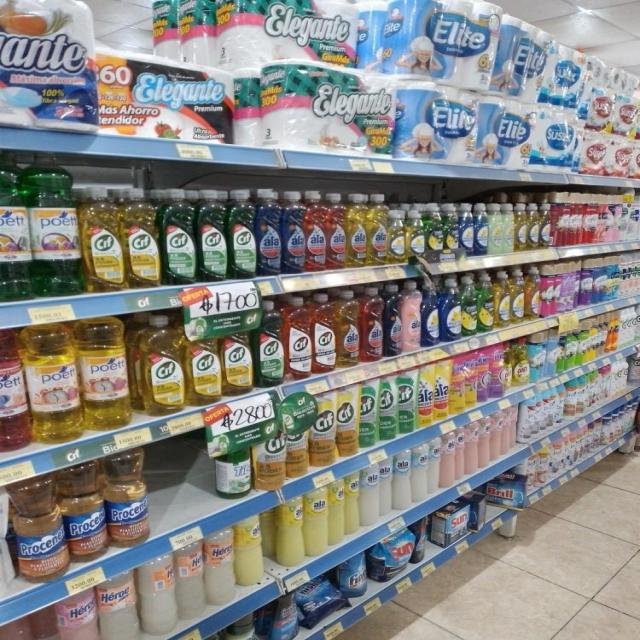ala_conc_amarillo: (336, 290, 359, 368), (367, 193, 387, 266), (347, 192, 366, 268)
ala_conc_azul: (257, 190, 281, 276), (282, 190, 304, 275), (384, 283, 402, 357)
ala_conc_rojo: (305, 191, 326, 272), (360, 286, 382, 362), (326, 192, 346, 270)
ala_crem_amarillo: (236, 514, 264, 587), (276, 497, 304, 567), (304, 487, 328, 557), (328, 478, 344, 547), (345, 472, 360, 536)
ala_crem_blanco: (361, 463, 378, 528), (394, 451, 412, 511), (412, 444, 428, 504), (379, 456, 392, 516), (429, 436, 440, 495)
ala_crem_rosado: (441, 429, 455, 488), (465, 421, 478, 476), (456, 426, 465, 483)
ala_sachet_amarillo: (418, 363, 433, 427), (434, 358, 449, 421)
ala_ultra_rosa: (402, 280, 421, 352)
cif_conc_bot_amarilla: (137, 312, 184, 416), (82, 184, 122, 294), (123, 187, 159, 290), (186, 310, 220, 406), (222, 309, 252, 396)
cif_conc_botella_roja: (285, 296, 311, 380), (313, 293, 335, 374)
cif_conc_botella_verde: (161, 188, 196, 286), (197, 188, 227, 282), (228, 188, 256, 280), (255, 300, 283, 387)
cif_conc_sachet_amarillo: (310, 392, 336, 468), (286, 404, 309, 479), (336, 385, 358, 457)
cif_conc_sachet_verde: (358, 379, 378, 449), (378, 374, 398, 442), (398, 369, 416, 435)
heroe: (99, 573, 138, 640), (206, 527, 234, 607), (177, 541, 205, 621), (56, 590, 98, 640)
magistral_con_amarillo: (406, 208, 426, 264), (388, 210, 406, 264), (494, 270, 510, 328), (510, 268, 525, 325), (526, 266, 541, 320), (539, 202, 552, 249), (516, 202, 528, 252), (528, 202, 540, 250)
magistral_con_azul: (440, 277, 460, 342), (422, 279, 439, 347), (459, 202, 474, 256), (475, 202, 488, 256)
magistral_con_crema: (489, 202, 503, 255)
magistral_con_verde: (478, 273, 493, 332)
